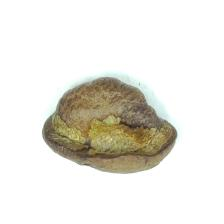NG: (51, 76, 178, 162)
